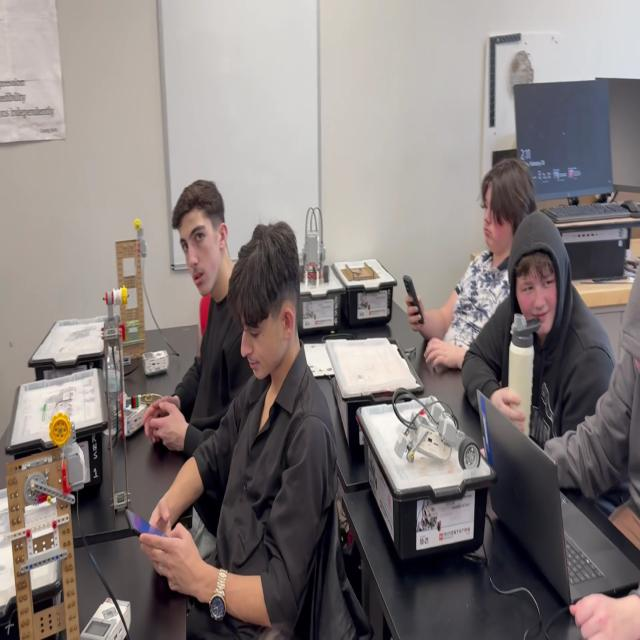pen: (124, 506, 175, 554), (403, 274, 424, 325)
